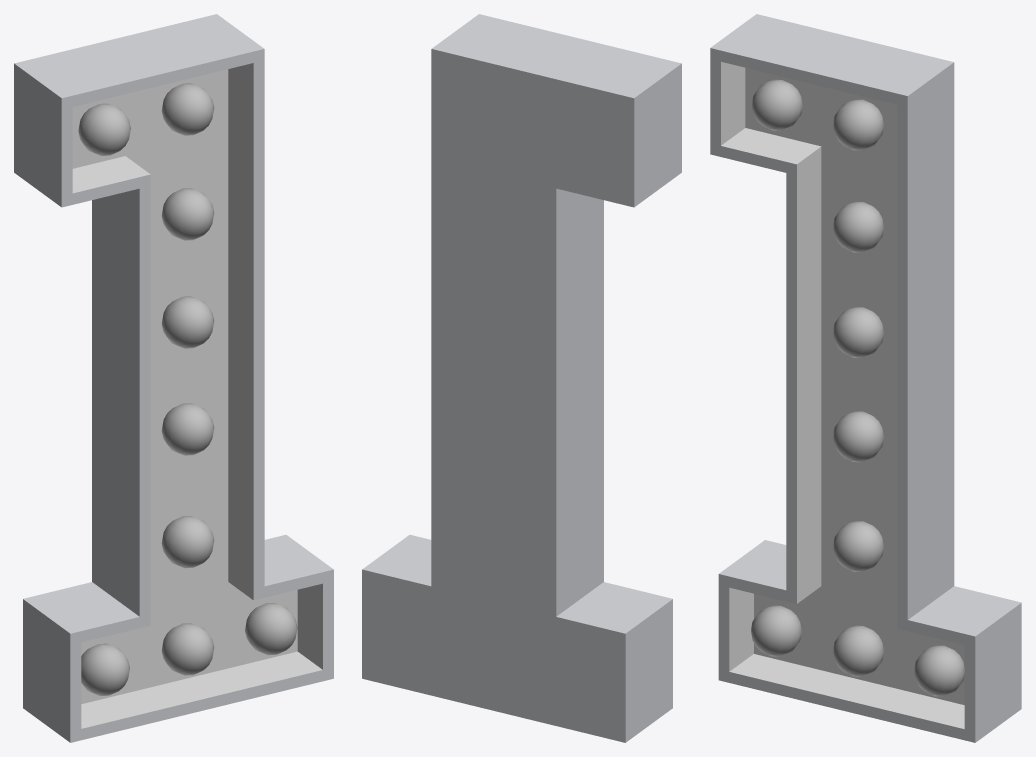
Rendered from LettersBulb01_1.FBX.
3 renders of one model, left to right at view 1: azimuth 30°, elevation 25°; view 2: azimuth 150°, elevation 25°; view 3: azimuth 330°, elevation 25°, orthographic. The views are drawn at different scales.
Visible parts, largest first — view 1: LettersBulb01_1; view 2: LettersBulb01_1; view 3: LettersBulb01_1.
Boxes of the visible parts, x1=… form: LettersBulb01_1: x1=14, y1=14, x2=333, y2=742; LettersBulb01_1: x1=362, y1=14, x2=681, y2=742; LettersBulb01_1: x1=710, y1=14, x2=1021, y2=742.
Size of what is drawn, in the model's own units: 0.5127 by 1.16 by 0.1563.
